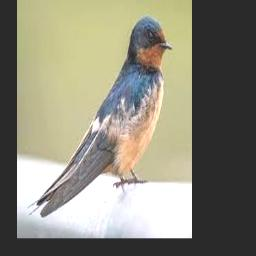Swallow: (28, 15, 171, 218)
